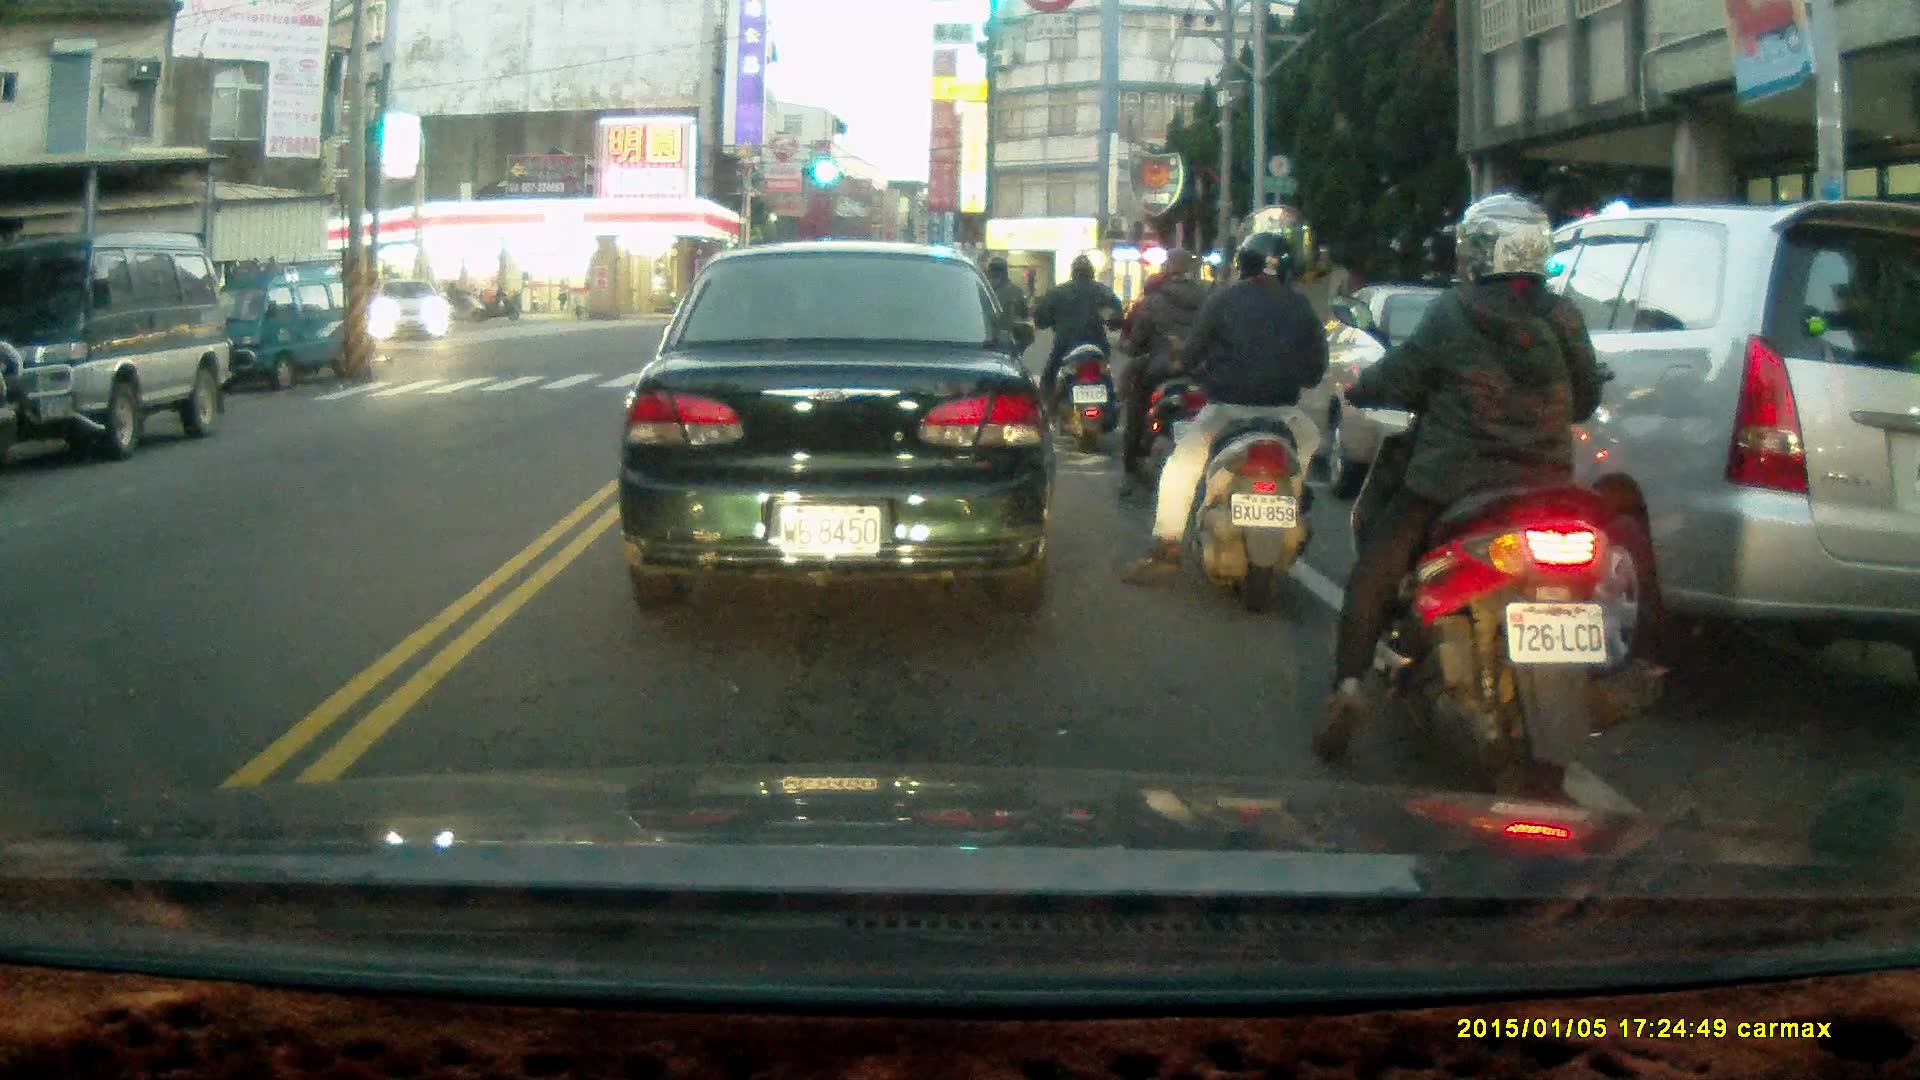rider: (1295, 192, 1638, 805), (1118, 222, 1319, 600), (1099, 246, 1223, 507), (1032, 256, 1122, 454), (966, 257, 1032, 383), (438, 278, 488, 323)
vehicle: (1391, 195, 1920, 687), (617, 242, 1051, 617), (1294, 284, 1592, 503), (1, 234, 216, 458), (191, 261, 370, 396), (372, 277, 451, 343)
